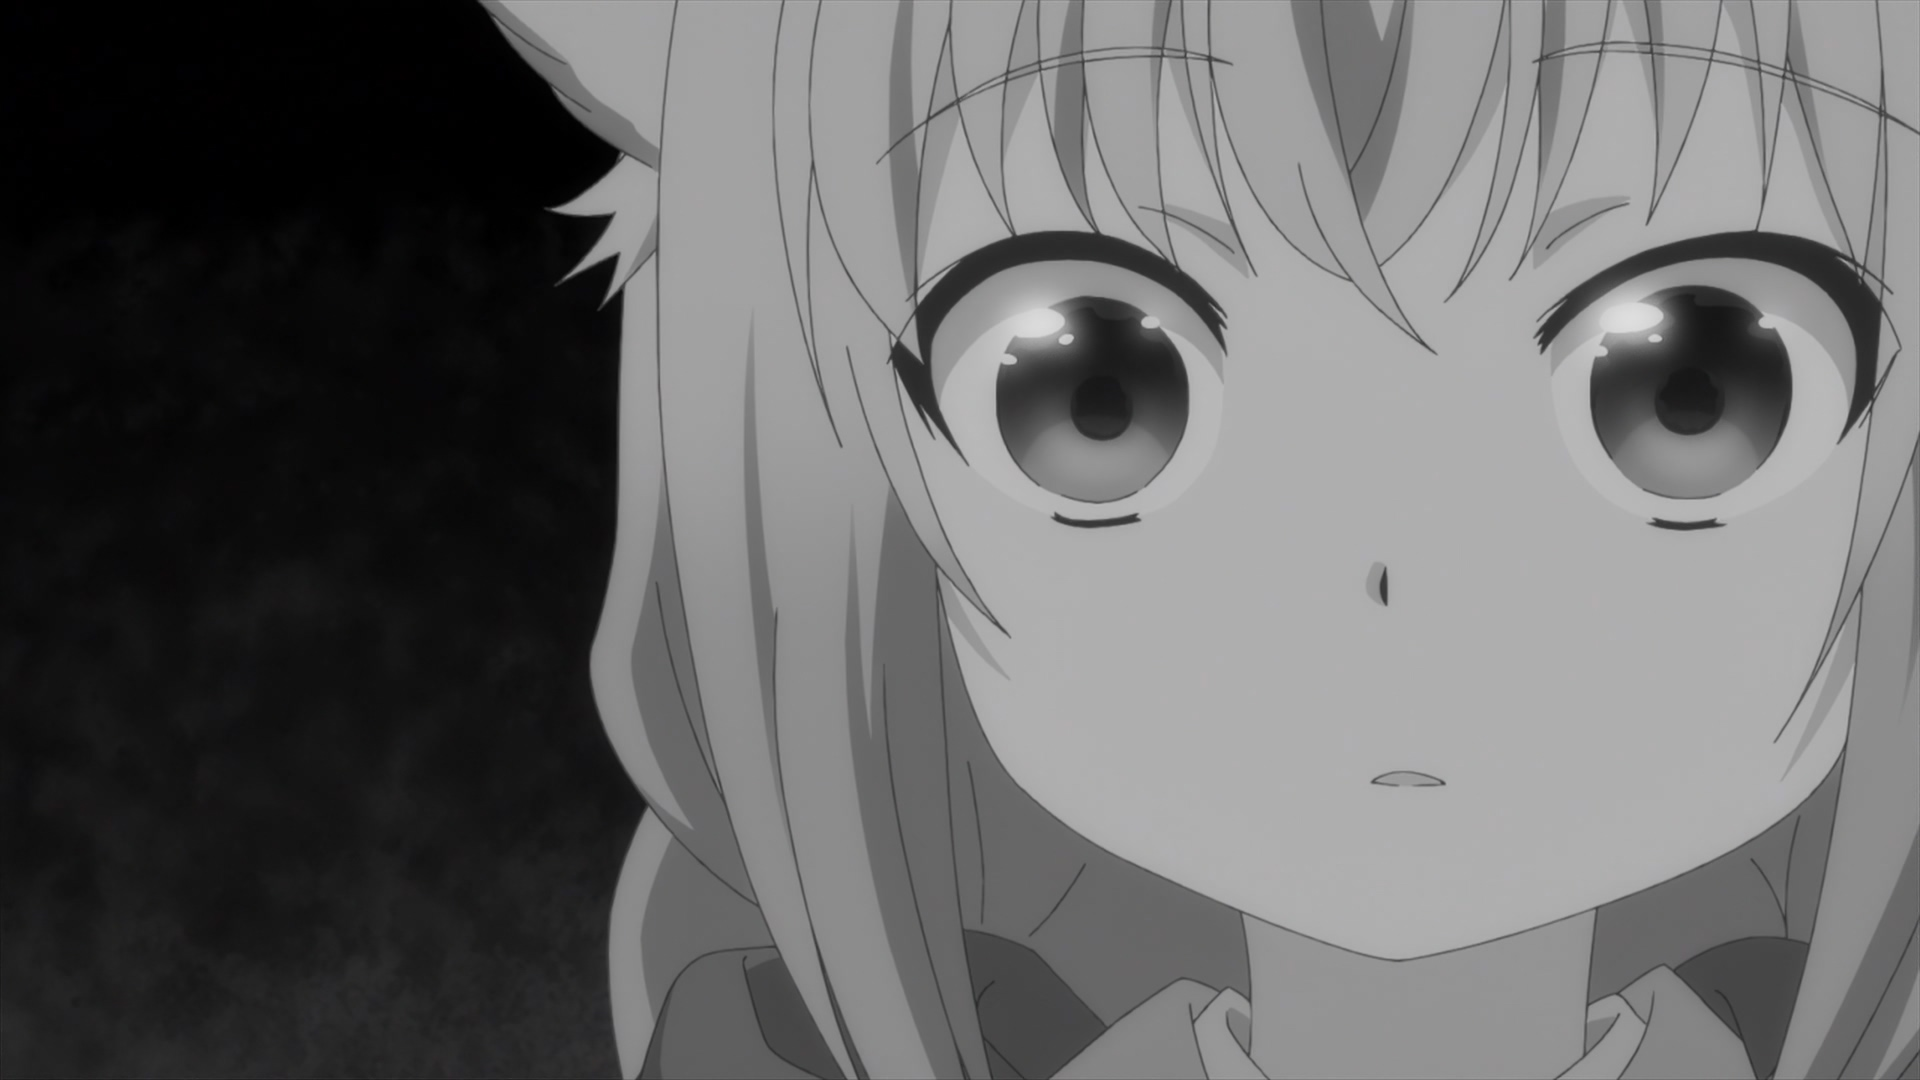柚: (479, 1, 1920, 1080)
